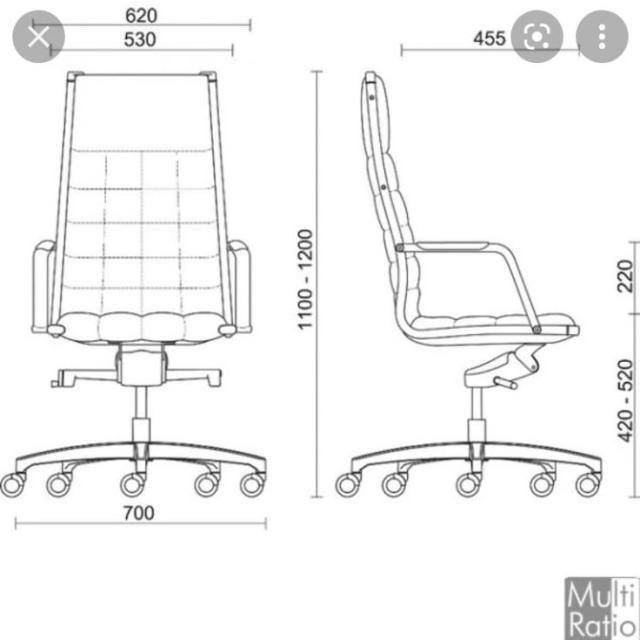5_Star_Base: (327, 431, 609, 507), (0, 434, 271, 510)
Armrest: (390, 234, 553, 339), (24, 234, 61, 341), (220, 234, 257, 339)
Backrest: (41, 61, 241, 334), (342, 61, 438, 348)
Base: (457, 339, 553, 449), (110, 344, 173, 448)
Control_Mechanism: (42, 362, 128, 396), (160, 363, 231, 394)
Seat: (395, 304, 589, 355), (44, 304, 243, 352)
